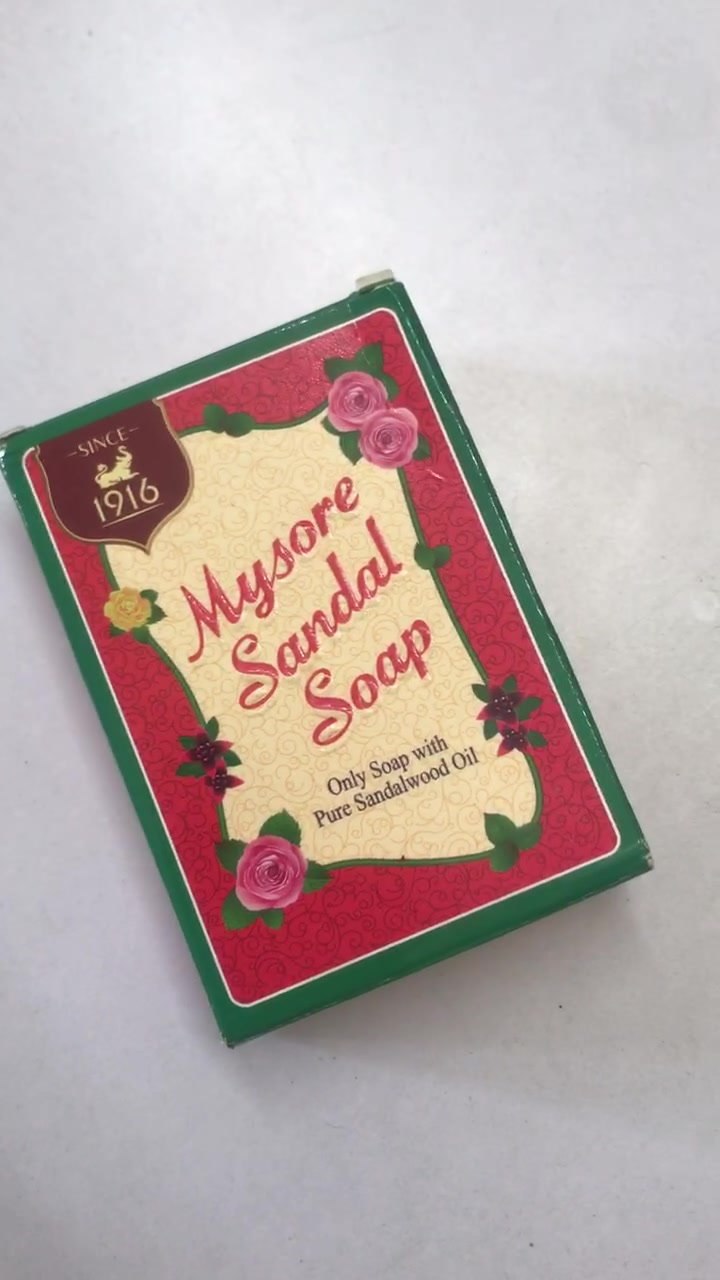mysore sandal soap: (6, 287, 652, 1049)
